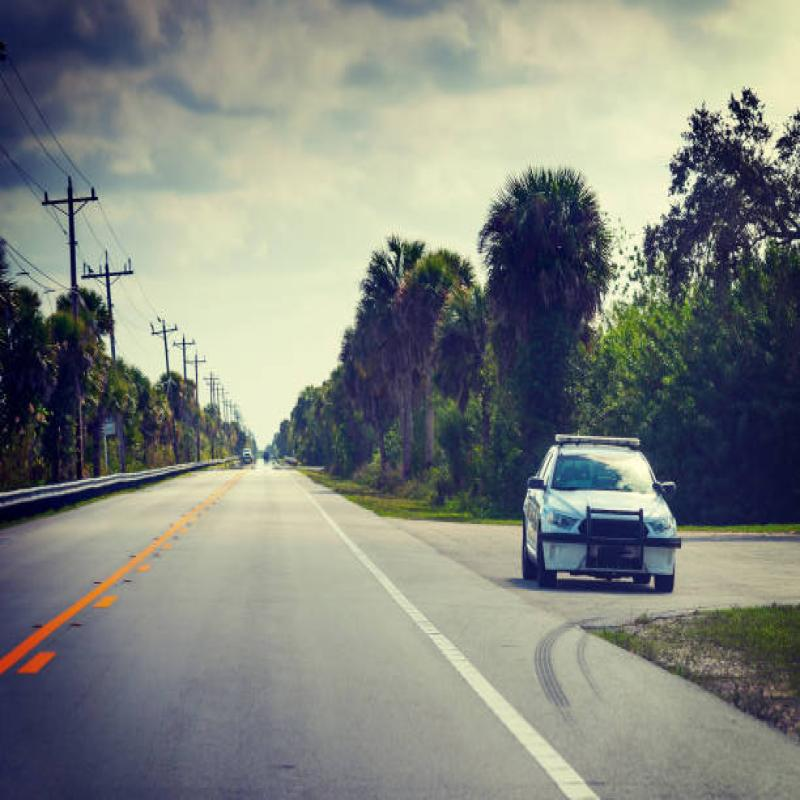car: (529, 405, 675, 585)
